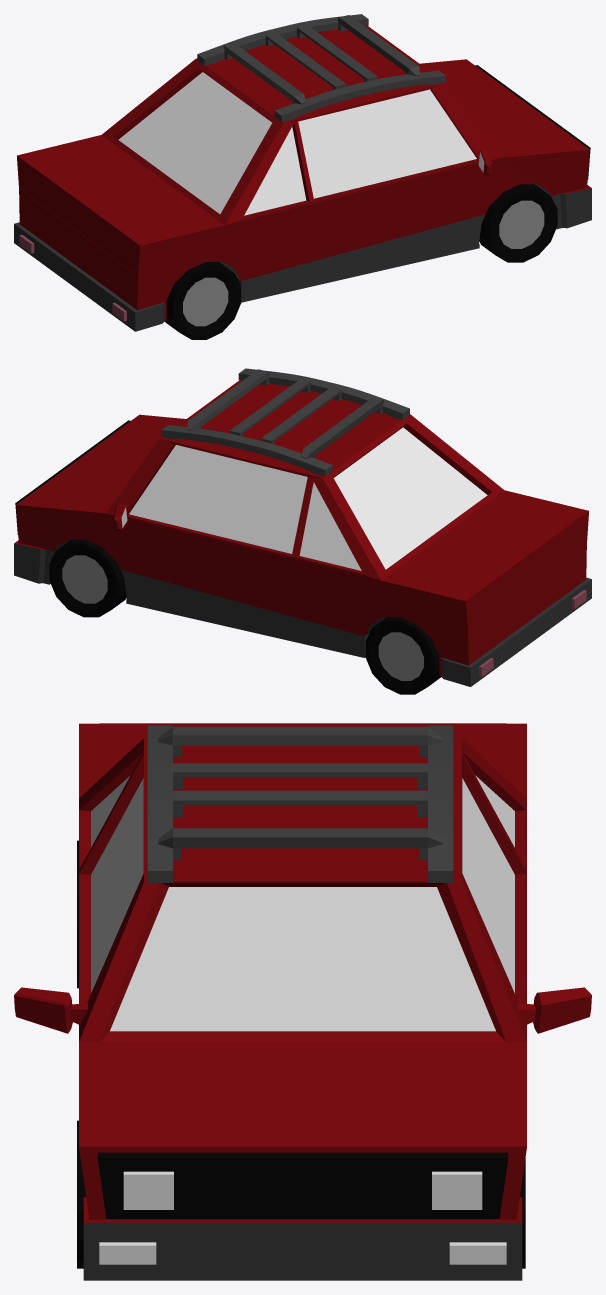
Rendered from car1.fbx.
3 views of the same model, one above another, from view 1: azimuth 30°, elevation 25°; view 2: azimuth 150°, elevation 25°; view 3: azimuth 270°, elevation 25° (orthographic). The views are drawn at different scales.
Visible parts, largest first — view 1: Car, CarTrunk, WheelFrontRight, WheelBackRight; view 2: Car, CarTrunk, WheelFrontLeft, WheelBackLeft; view 3: Car, CarTrunk, WheelFrontRight.
Boxes of the visible parts, box(x1,y1,x2,y2) form: Car: box(14, 14, 591, 331); CarTrunk: box(22, 139, 218, 271); WheelFrontRight: box(479, 184, 557, 262); WheelBackRight: box(164, 261, 241, 339); Car: box(14, 368, 591, 686); CarTrunk: box(387, 494, 583, 626); WheelFrontLeft: box(49, 539, 126, 617); WheelBackLeft: box(365, 617, 440, 694); Car: box(14, 723, 591, 1280); CarTrunk: box(99, 723, 506, 778); WheelFrontRight: box(77, 1120, 85, 1268).
Size of the model in its own units: 376 by 151 by 222.
